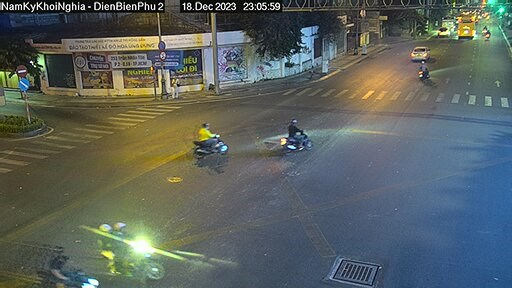bus: (454, 16, 478, 37)
car: (406, 43, 433, 62)
motorbike: (97, 216, 166, 282), (178, 122, 243, 174), (267, 118, 320, 160), (413, 63, 438, 81)
